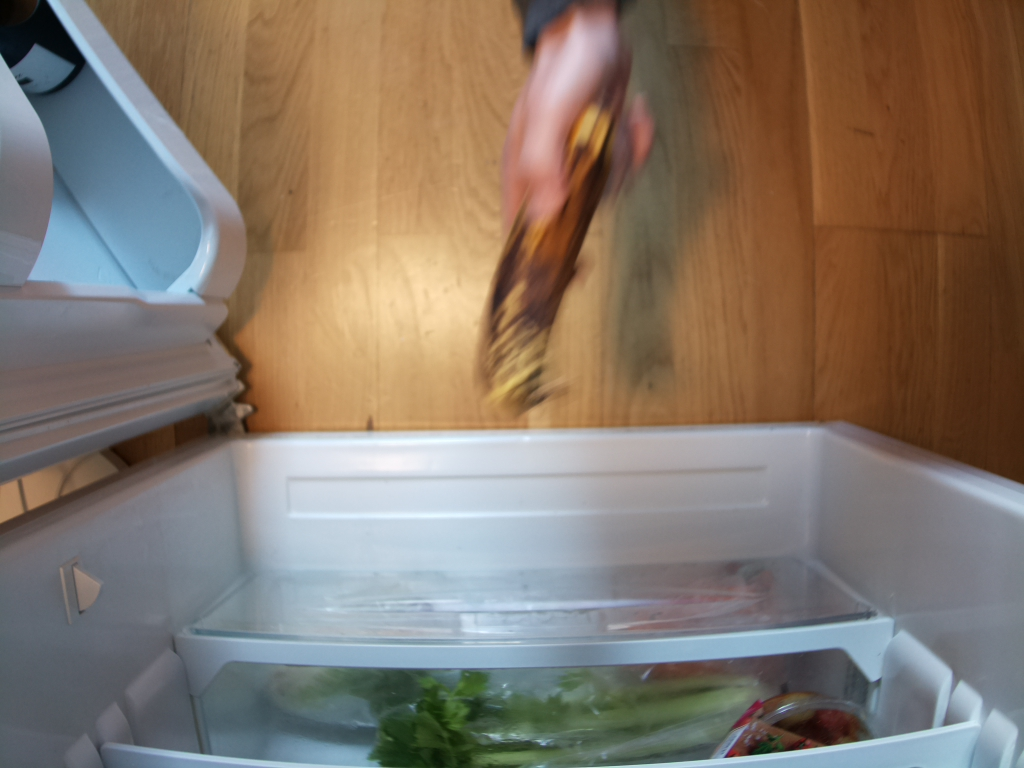banana-overripe: (475, 96, 617, 417)
